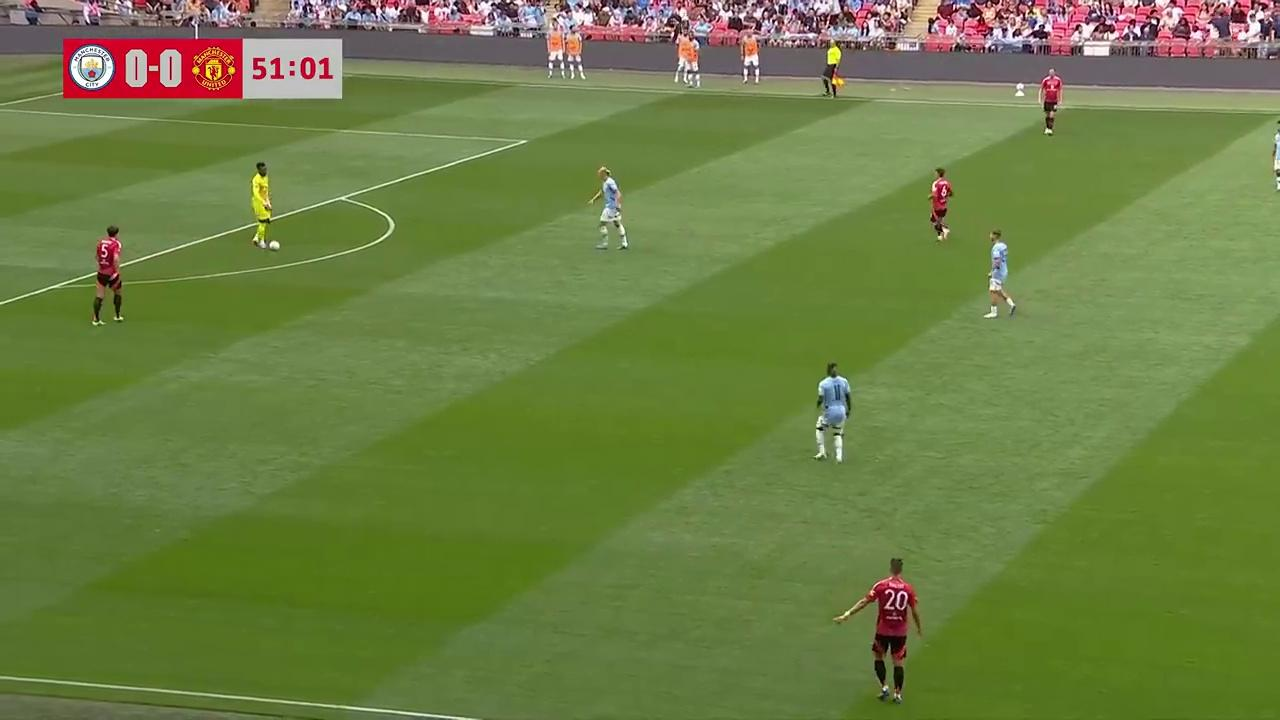ball: (267, 237, 281, 250)
player: (861, 557, 922, 703), (812, 361, 852, 464), (589, 171, 630, 251), (91, 226, 124, 325), (983, 229, 1017, 319), (248, 161, 279, 250), (928, 167, 953, 242), (1037, 68, 1062, 135), (1271, 122, 1280, 194)
referee: (821, 39, 843, 98)
